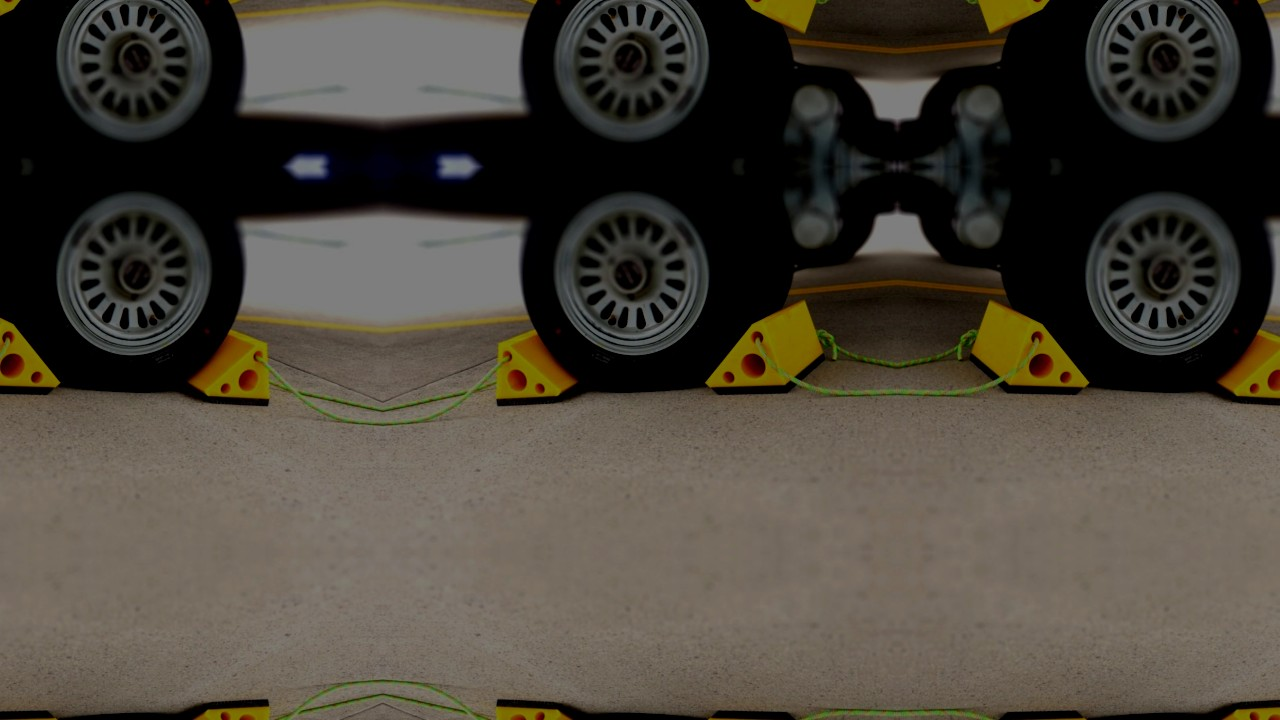chock: (694, 297, 828, 404), (967, 297, 1101, 404), (177, 322, 280, 410), (485, 322, 588, 410), (0, 297, 71, 404), (1207, 322, 1280, 410), (694, 0, 828, 36), (967, 0, 1101, 36), (0, 0, 71, 36), (177, 696, 280, 720), (485, 696, 588, 720), (694, 702, 828, 720), (967, 702, 1101, 720), (1207, 696, 1280, 720), (177, 0, 280, 11), (485, 0, 588, 11)
wheel: (507, 166, 778, 405), (1017, 166, 1280, 405), (0, 166, 258, 405), (507, 0, 778, 166), (1017, 0, 1280, 166), (0, 0, 258, 166)
